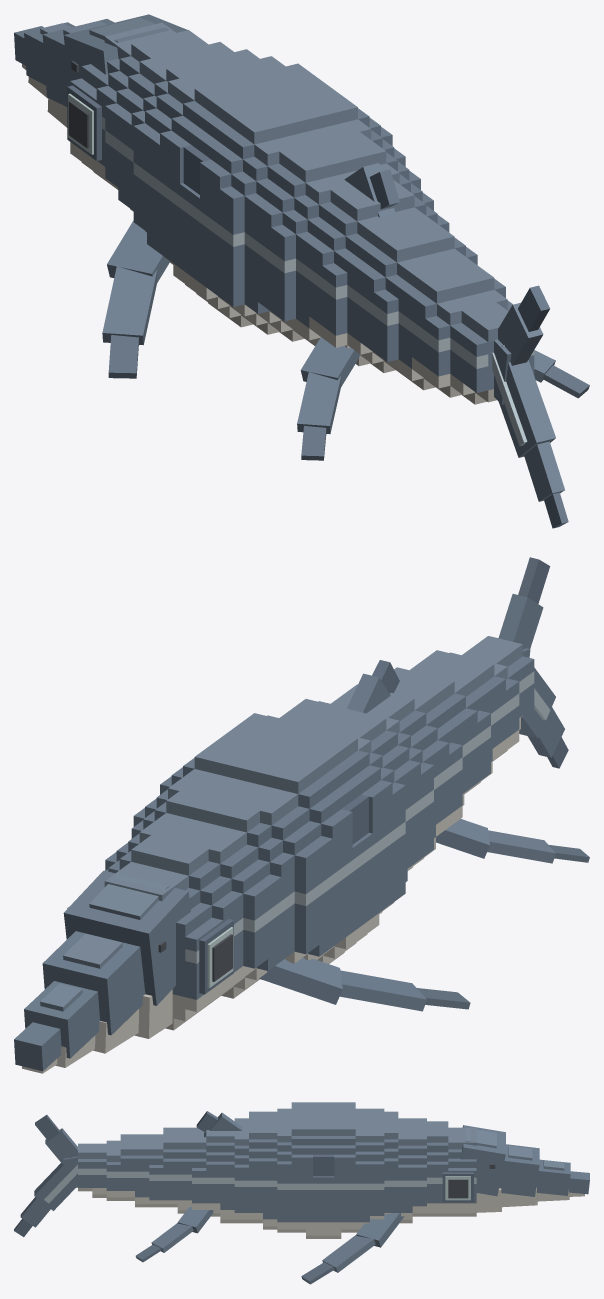
Rendered from Shonisaurus.glb.
3 renders of one model, top to bottom at view 1: azimuth 30°, elevation 25°; view 2: azimuth 150°, elevation 25°; view 3: azimuth 270°, elevation 25°, orthographic. The views are drawn at different scales.
Parts seen in each view (by area): view 1: Chest, Head, S3, Tail, S2, S4, S5, S6, S7, FlipperFL, S9, S8 (+3 smaller); view 2: Head, Chest, S2, Tail, S3, FlipperFL, S4, S5, S6, S7, S9, FlipperHL (+2 smaller); view 3: Head, Chest, S2, Tail, S3, S5, S4, S7, S6, FlipperFR, S8, S9 (+3 smaller).
Boxes of the visible parts, <box> form: Chest: <box>105,42,310,264</box>; Head: <box>14,14,208,189</box>; S3: <box>206,97,405,334</box>; Tail: <box>463,285,568,528</box>; S2: <box>173,73,344,327</box>; S4: <box>244,132,420,341</box>; S5: <box>271,163,433,345</box>; S6: <box>309,185,449,366</box>; S7: <box>347,217,477,372</box>; FlipperFL: <box>102,220,169,378</box>; S9: <box>412,268,512,397</box>; S8: <box>374,248,480,390</box>; Head: <box>14,835,243,1073</box>; Chest: <box>105,747,345,998</box>; S2: <box>208,723,379,963</box>; Tail: <box>475,557,568,768</box>; S3: <box>241,713,405,914</box>; FlipperFL: <box>259,958,470,1011</box>; S4: <box>279,699,420,881</box>; S5: <box>318,660,435,870</box>; S6: <box>344,684,462,836</box>; S7: <box>394,667,477,805</box>; S9: <box>424,650,519,761</box>; FlipperHL: <box>436,819,589,863</box>; Head: <box>427,1121,589,1216</box>; Chest: <box>341,1102,426,1232</box>; S2: <box>306,1102,341,1238</box>; Tail: <box>14,1115,92,1236</box>; S3: <box>277,1102,305,1232</box>; S5: <box>196,1111,248,1223</box>; S4: <box>249,1111,277,1229</box>; S7: <box>163,1127,191,1213</box>; S6: <box>192,1127,220,1216</box>; FlipperFR: <box>301,1213,404,1284</box>; S8: <box>135,1134,163,1207</box>; S9: <box>106,1134,134,1200</box>.
Bounding box in the file's own units: 15.73 × 9.72 × 40.45.
